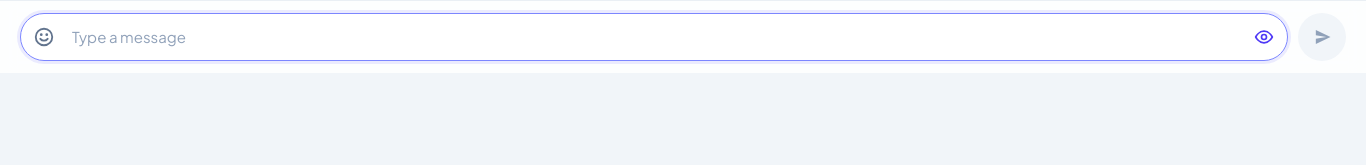
Test: Composer translation preview › shows what the recipient will see after a pause in typing
Type "તમે કેમ છો?" into the text box labelled "message" at (654, 37), box [68,19,1240,55]
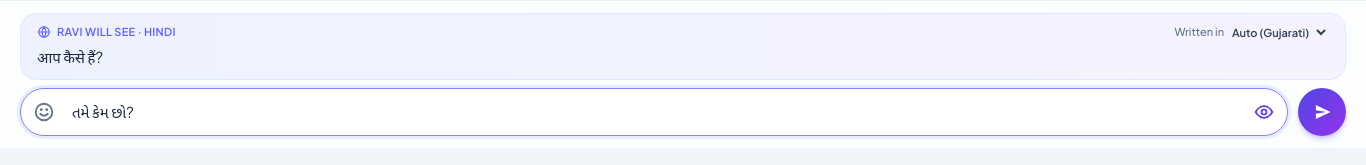
expect the element named "Translation preview" shows "Ravi will see · Hindi": met, box [20,13,1346,80]
expect the text "आप कैसे हैं?" is shown: met, box [37,46,103,66]
